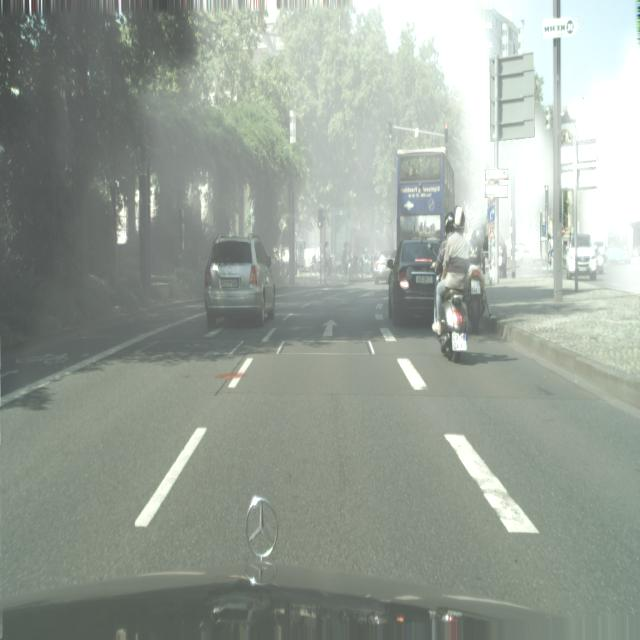bus: (437, 205, 472, 362)
motorcycle: (395, 148, 456, 251)
person: (341, 243, 348, 279)
rider: (567, 232, 598, 281), (606, 221, 633, 264)
truck: (204, 233, 276, 329), (388, 239, 440, 326), (567, 232, 597, 281), (373, 252, 396, 284), (514, 244, 536, 267)
